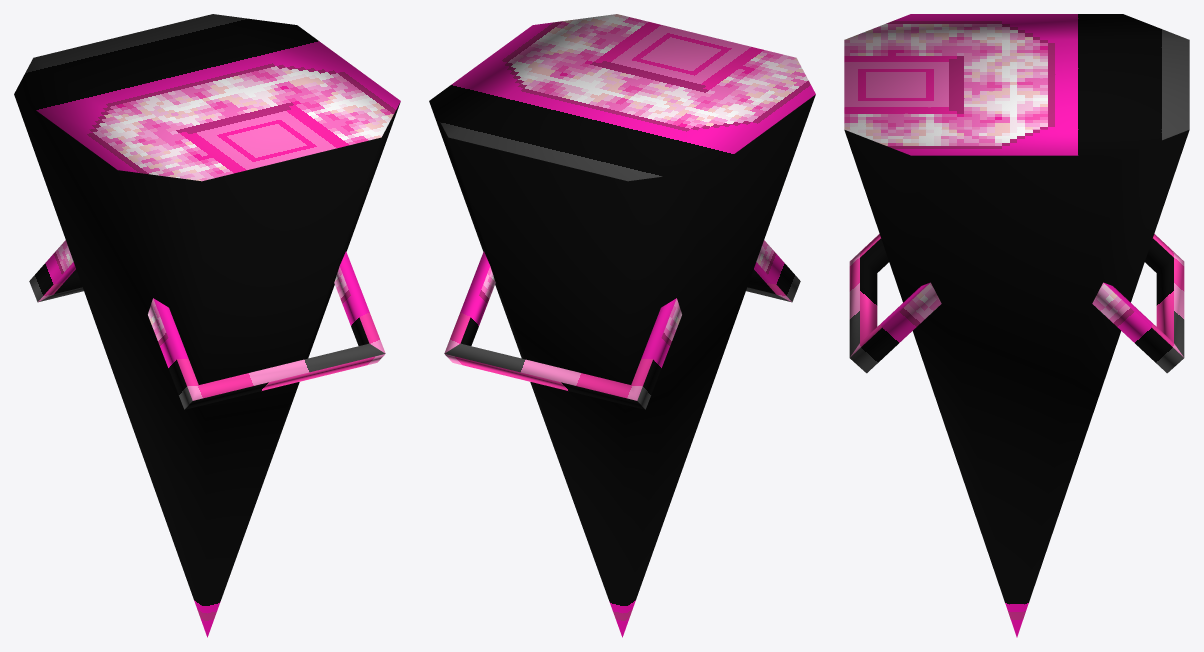
3 renders of one model, left to right at view 1: azimuth 30°, elevation 25°; view 2: azimuth 150°, elevation 25°; view 3: azimuth 270°, elevation 25°, orthographic. The views are drawn at different scales.
Visible parts, largest first — view 1: 3676kg_gl_ta0; view 2: 3676kg_gl_ta0; view 3: 3676kg_gl_ta0.
Part boxes in pixels (x1,y1,x2,y2): 3676kg_gl_ta0: [14, 14, 400, 637]; 3676kg_gl_ta0: [429, 14, 815, 637]; 3676kg_gl_ta0: [844, 14, 1189, 637].
Size of the model in its own units: 0.9468 by 1.73 by 0.9766.
1 material, 1 textured.
